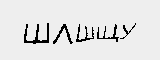Л: (51, 23, 74, 46)
У: (116, 21, 135, 41)
Ш: (20, 21, 49, 46), (75, 24, 96, 42)
Щ: (95, 22, 120, 45)
